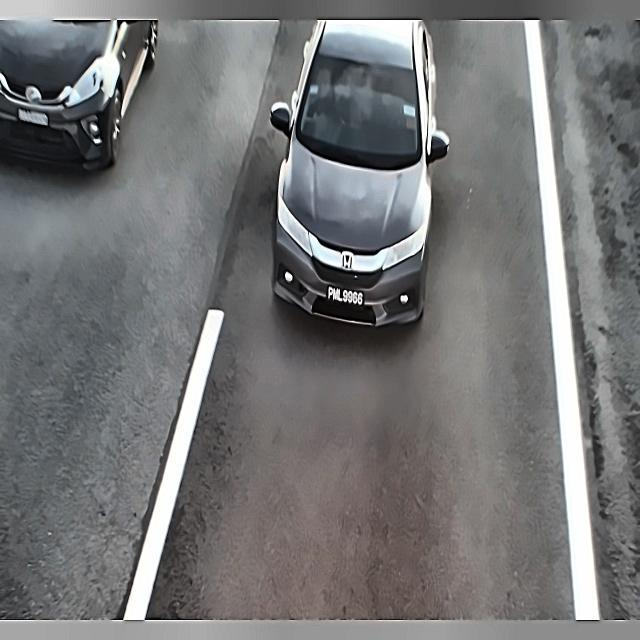car: (319, 282, 369, 314), (8, 103, 53, 135)
